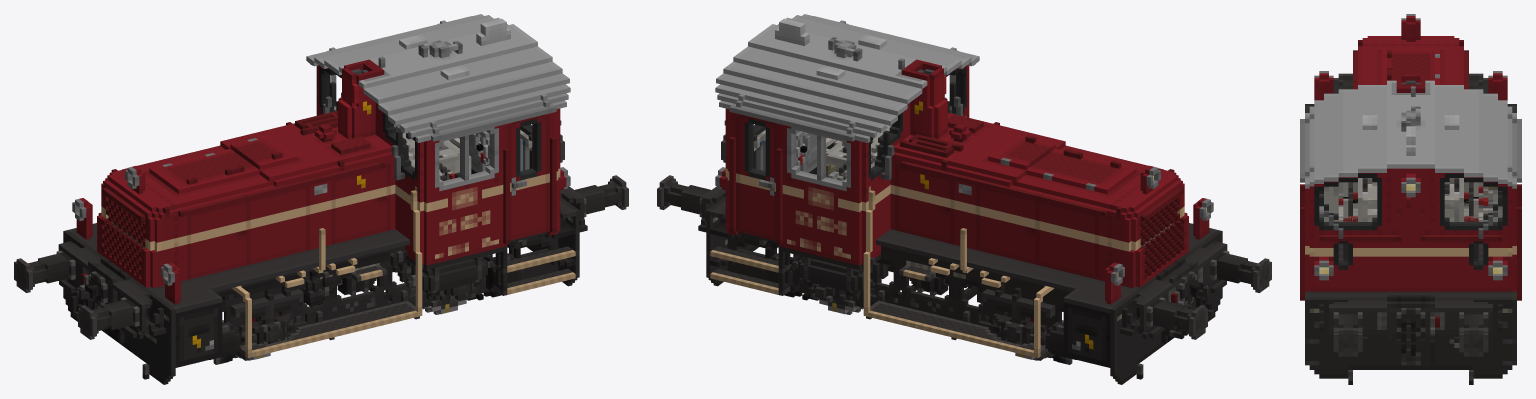
3 renders of one model, left to right at view 1: azimuth 30°, elevation 25°; view 2: azimuth 150°, elevation 25°; view 3: azimuth 270°, elevation 25°, orthographic.
Parts seen in each view (by area): view 1: FRAME_3, FRAME_1, FRAME_2, Motor_Cover_2, DOOR_1_EXTERNAL, Abogus_Cover, Motor_Cover_1, INTERIOR_1_LCG_cab1, Brake_Rigging; view 2: FRAME_3, FRAME_1, FRAME_2, Motor_Cover_2, DOOR_2_EXTERNAL, Abogus_Cover, Motor_Cover_1, INTERIOR_1_LCG_cab1, Brake_Rigging; view 3: FRAME_3, FRAME_1, INTERIOR_1_LCG_cab1, THROTTLE_1_INTERIOR_LCG_cab1-1, THROTTLE_2_INTERIOR_LCG_cab1, REVERSER_2_INTERIOR_LCG_cab1.
Part boxes in pixels (x1,y1,x2,y2): FRAME_3: (72, 14, 570, 304); FRAME_1: (14, 134, 628, 384); FRAME_2: (209, 190, 526, 364); Motor_Cover_2: (246, 185, 310, 265); DOOR_1_EXTERNAL: (507, 114, 549, 240); Abogus_Cover: (331, 163, 390, 244); Motor_Cover_1: (187, 201, 246, 279); INTERIOR_1_LCG_cab1: (326, 73, 547, 242); Brake_Rigging: (294, 262, 415, 322); FRAME_3: (715, 14, 1213, 304); FRAME_1: (657, 134, 1271, 384); FRAME_2: (759, 190, 1076, 364); Motor_Cover_2: (975, 185, 1039, 265); DOOR_2_EXTERNAL: (736, 114, 778, 240); Abogus_Cover: (895, 163, 954, 244); Motor_Cover_1: (1039, 201, 1098, 279); INTERIOR_1_LCG_cab1: (738, 73, 959, 242); Brake_Rigging: (870, 262, 991, 322); FRAME_3: (1300, 14, 1521, 300); FRAME_1: (1305, 73, 1516, 384); INTERIOR_1_LCG_cab1: (1319, 178, 1502, 263); THROTTLE_1_INTERIOR_LCG_cab1-1: (1348, 182, 1357, 216); THROTTLE_2_INTERIOR_LCG_cab1: (1464, 182, 1473, 216); REVERSER_2_INTERIOR_LCG_cab1: (1338, 198, 1357, 221).
Size of the model in its own units: 7.88 by 3.5 by 2.88.
1 material, 1 textured.
